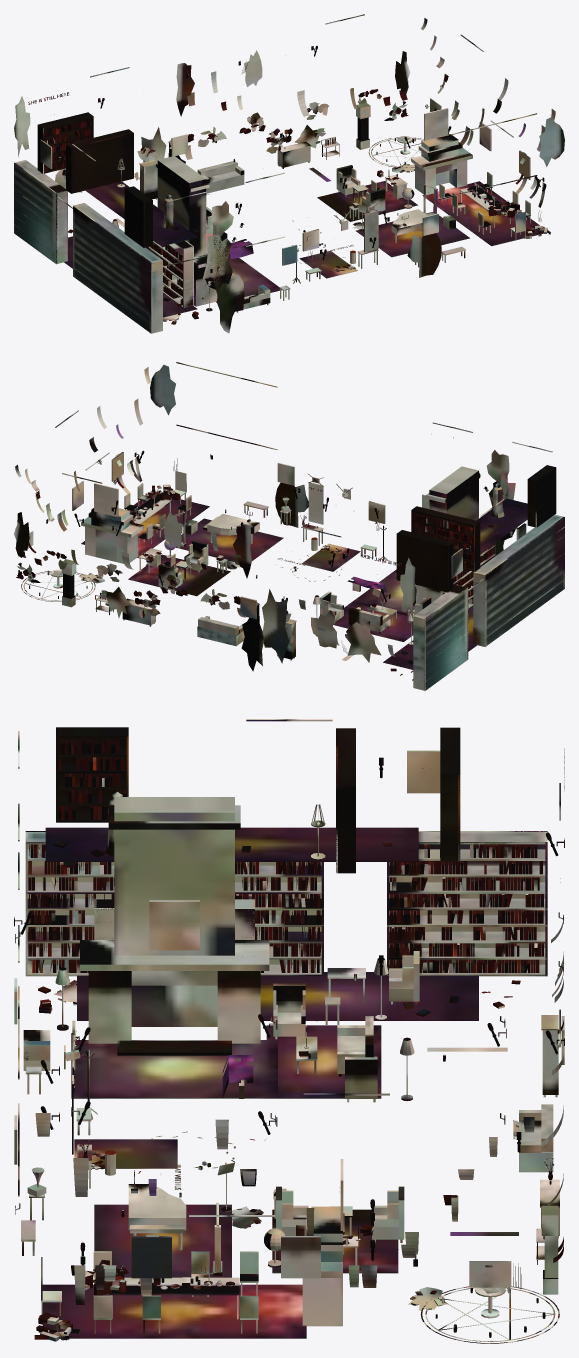
Rendered from hall_props.glb.
The picture shows the model from 3 angles, top to bottom: view 1: azimuth 30°, elevation 25°; view 2: azimuth 150°, elevation 25°; view 3: azimuth 270°, elevation 25°; orthographic projection. The views are drawn at different scales.
Visible parts, largest first — view 1: CHUNK_hall_props; view 2: CHUNK_hall_props; view 3: CHUNK_hall_props.
Boxes of the visible parts, left/top/right/bottom form: CHUNK_hall_props: left=14, top=14, right=564, bottom=333; CHUNK_hall_props: left=14, top=362, right=564, bottom=690; CHUNK_hall_props: left=14, top=719, right=564, bottom=1343.
Bounding box in the file's own units: 23.6 × 8.4 × 14.4.
1 material, 1 textured.
